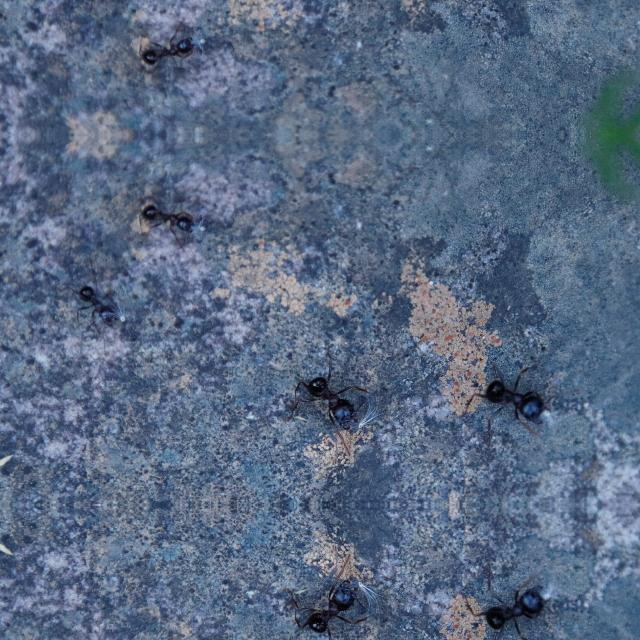Messor: (292, 348, 391, 450), (113, 176, 230, 254), (113, 14, 230, 92), (291, 558, 390, 640), (66, 278, 164, 358), (466, 369, 552, 437), (466, 571, 552, 639)
